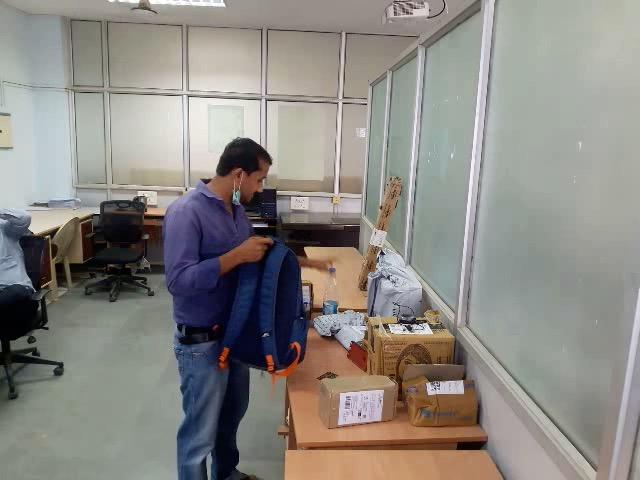shoplifting: (148, 199, 444, 394)
